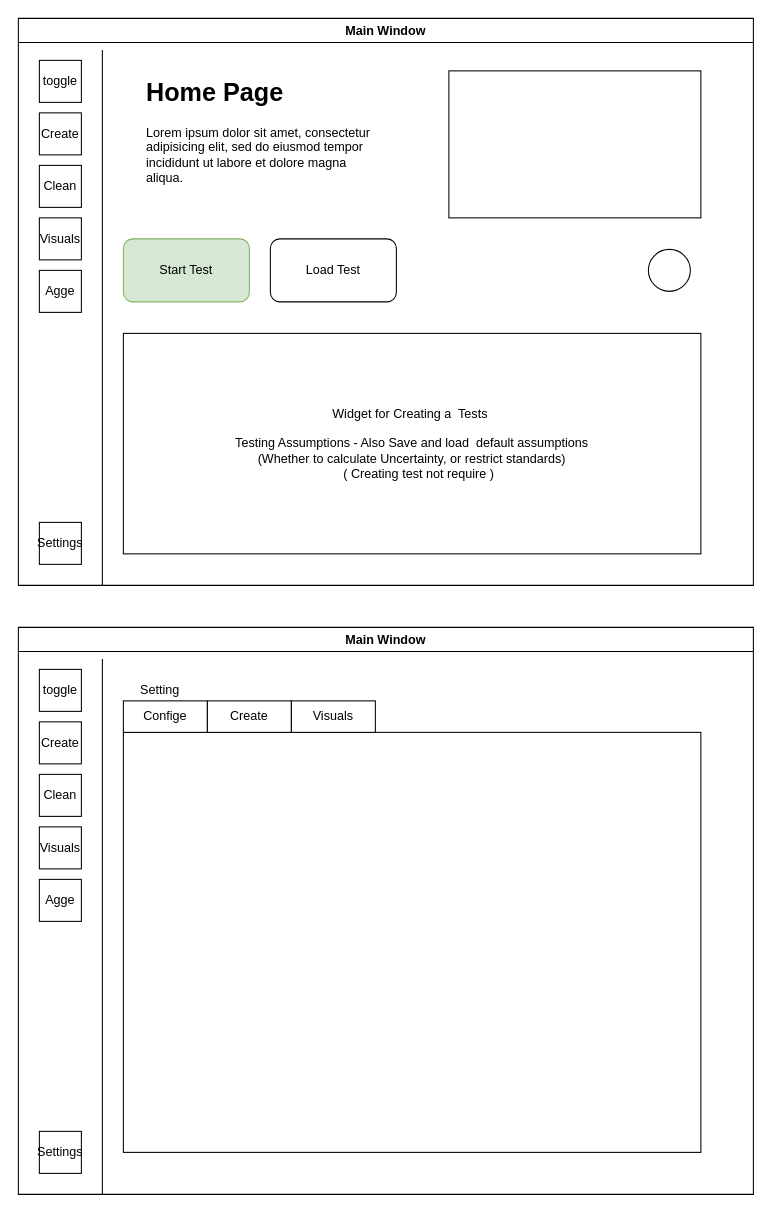
Image size: 772x1214. Some labels were removed from this diagram. The centre of each missing label's shape, as x and y in pixels:
"Help" goes at point (668, 269).
"Stats And Database info" goes at point (574, 144).
"Themes, Default behavior, Task specific settings" goes at point (411, 941).
